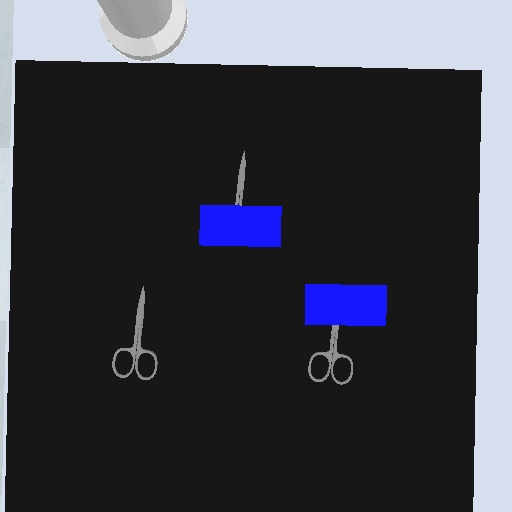tijera: (109, 284, 161, 383), (305, 325, 358, 387), (232, 148, 249, 207)
